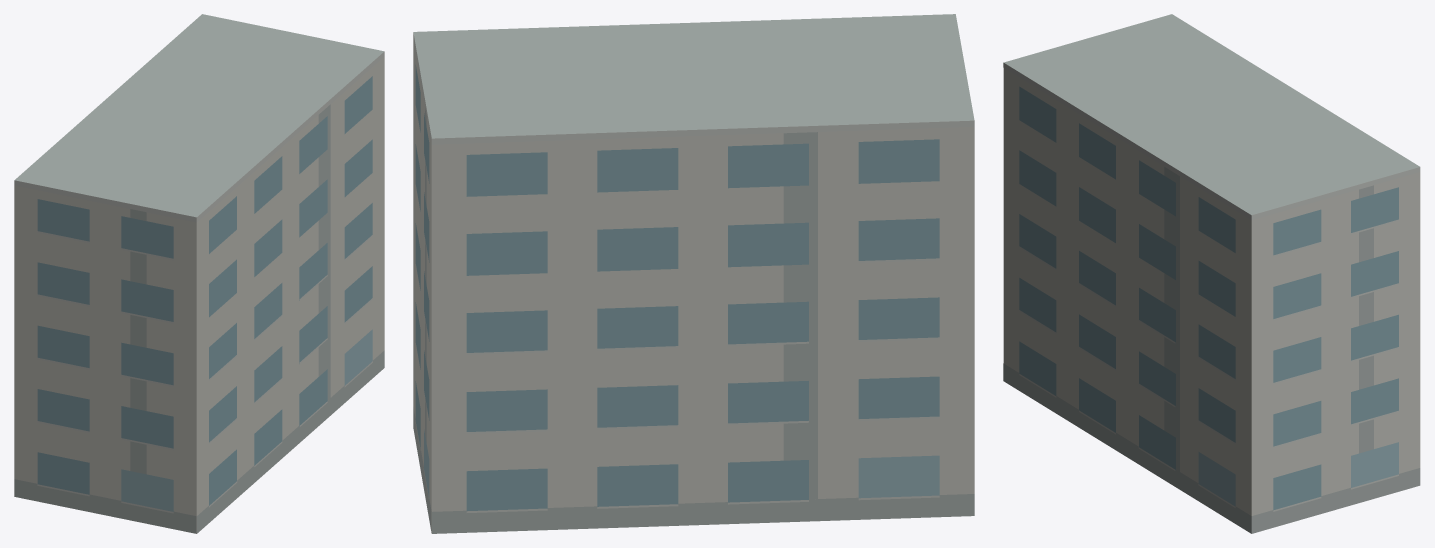
Rendered from survey-upis-32695841.glb.
3 renders of one model, left to right at view 1: azimuth 30°, elevation 25°; view 2: azimuth 150°, elevation 25°; view 3: azimuth 270°, elevation 25°, orthographic. The views are drawn at different scales.
Parts seen in each view (by area): view 1: survey-upis-32695841.tmp; view 2: survey-upis-32695841.tmp; view 3: survey-upis-32695841.tmp.
Boxes of the visible parts, x1,y1,x2,y2 form: survey-upis-32695841.tmp: (14,14,384,533); survey-upis-32695841.tmp: (413,14,974,533); survey-upis-32695841.tmp: (1003,14,1420,533).
Size of the model in its own units: 20.67 by 15.25 by 18.09.
